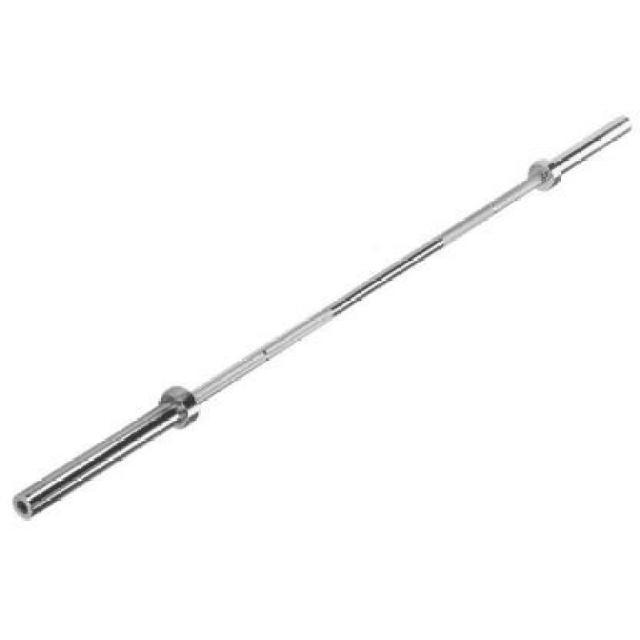Barbell: (8, 467, 43, 525)
